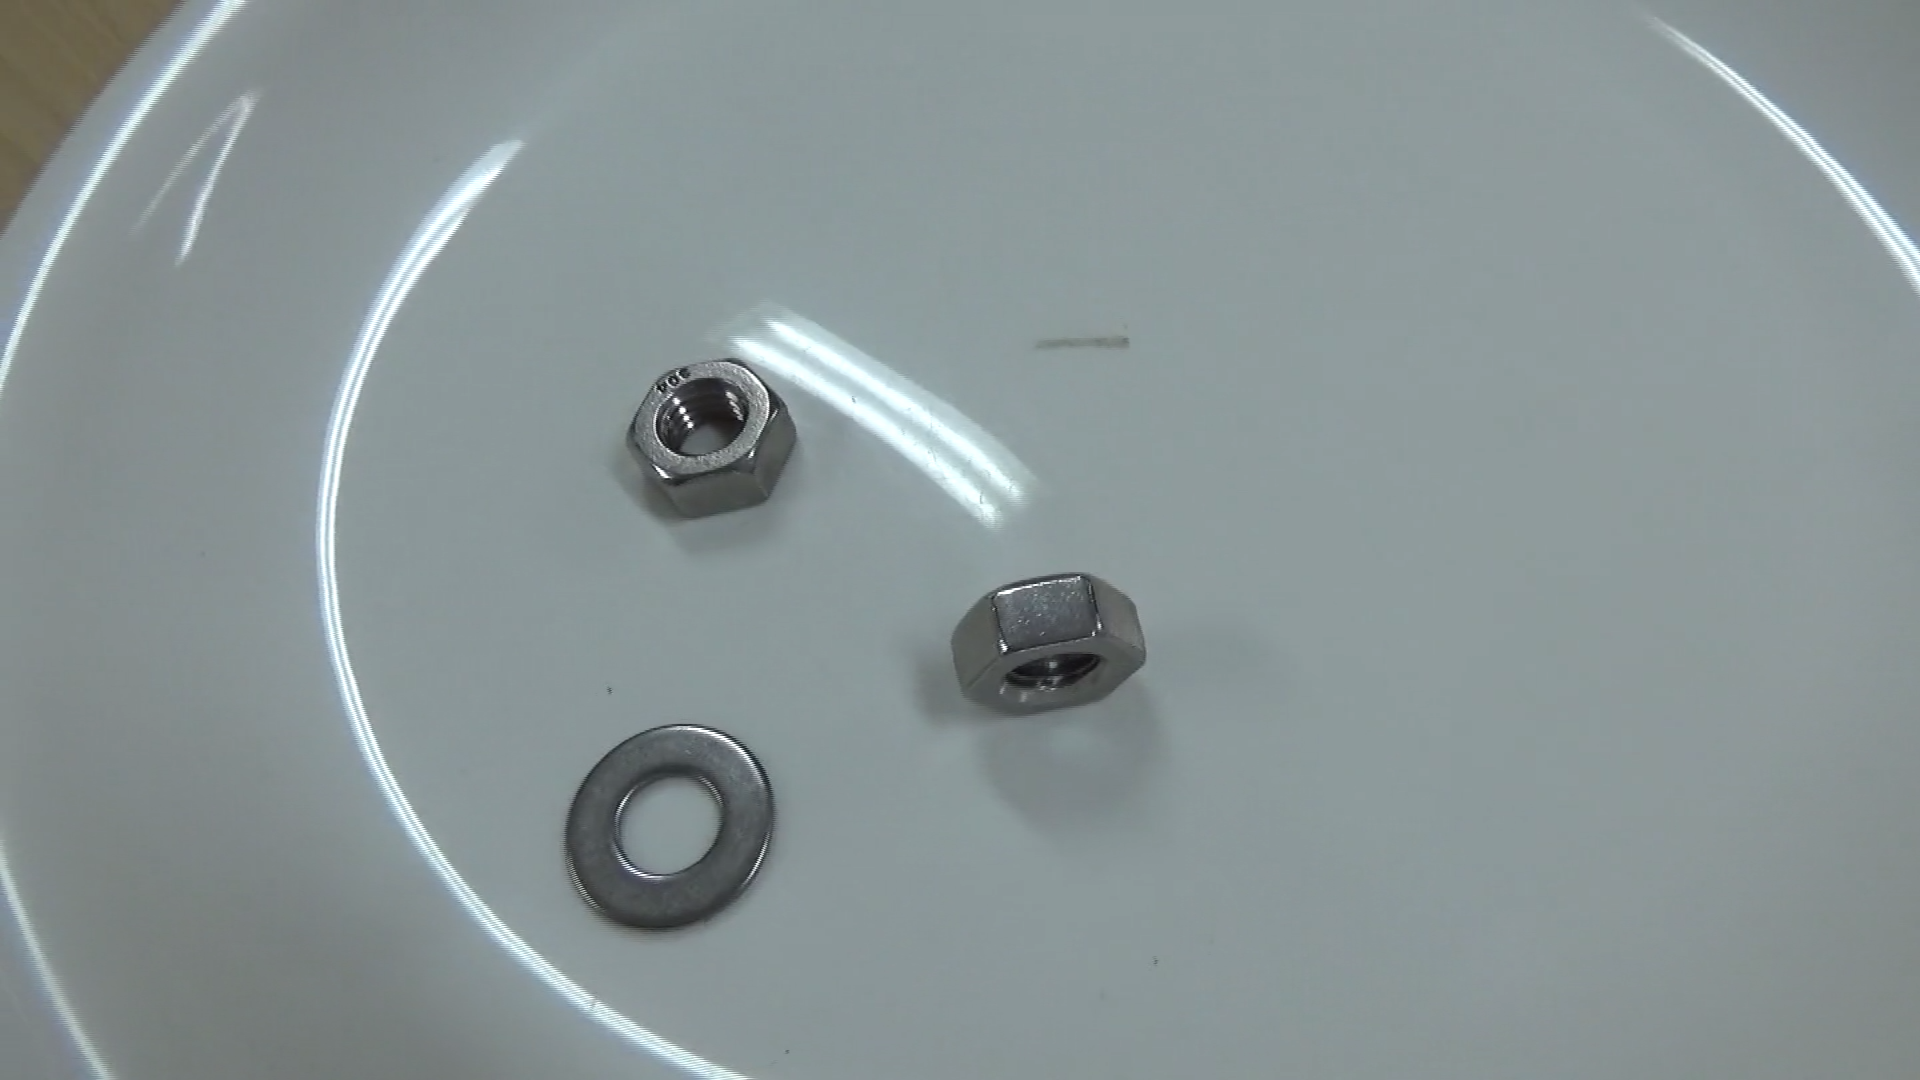nut: (607, 336, 802, 531), (942, 564, 1158, 720)
washer: (555, 694, 787, 944)
